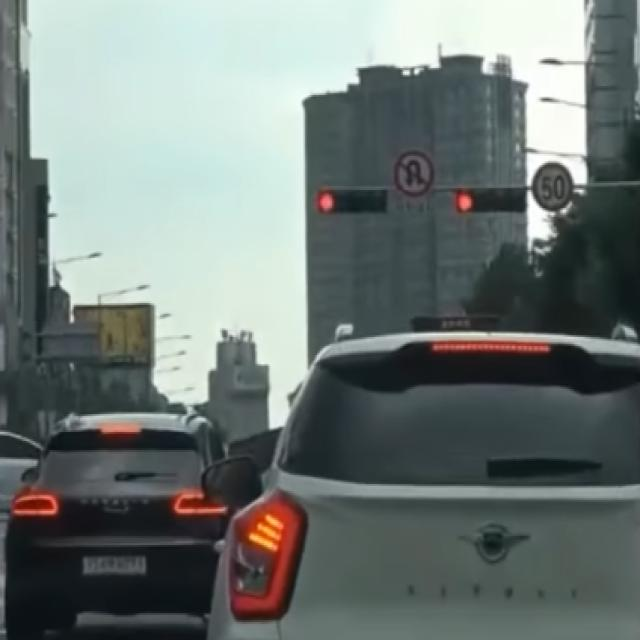Red Light: (451, 187, 475, 213), (317, 190, 336, 214)
